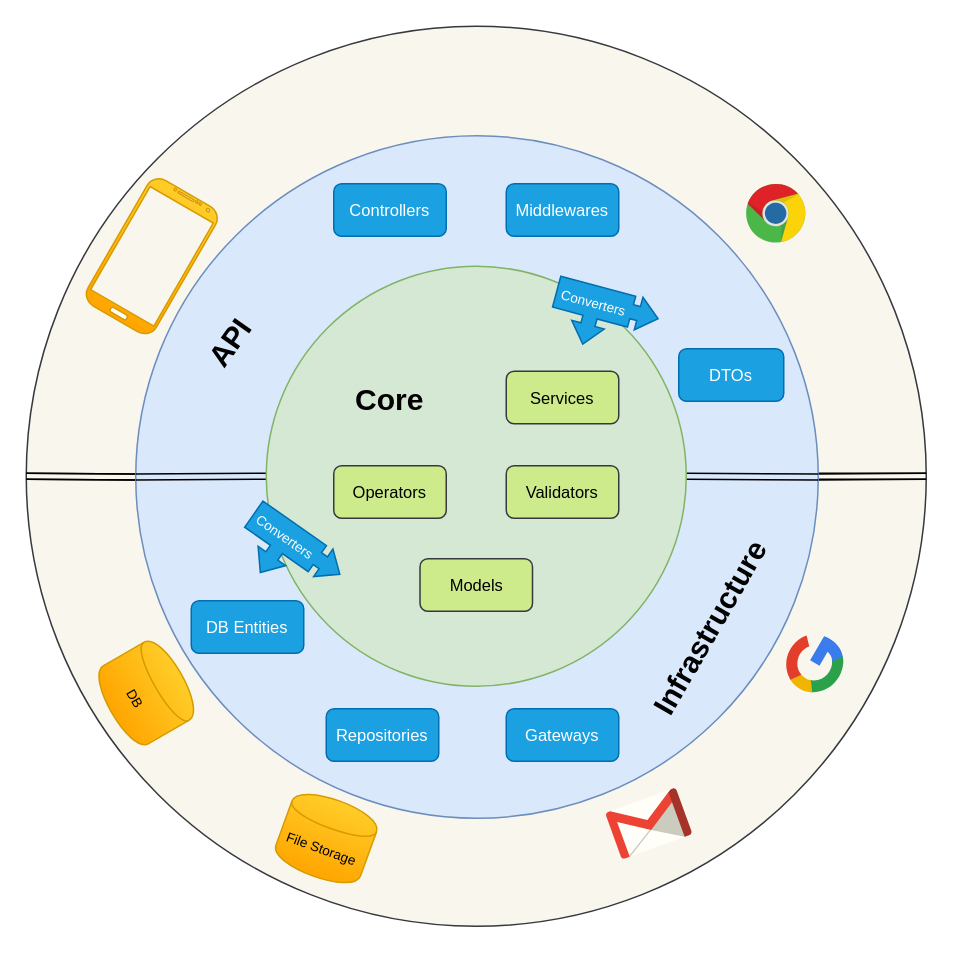
The diagram is 954 pixels wide and 953 high, and some of its shapes have lost their labels. Here are the shapes that lost their labels. From the top down, the box of each, then its label:
(738, 175, 813, 251): Swagger
(80, 172, 222, 339): Application
(771, 621, 855, 705): Google Services
(603, 786, 693, 860): Email Service
